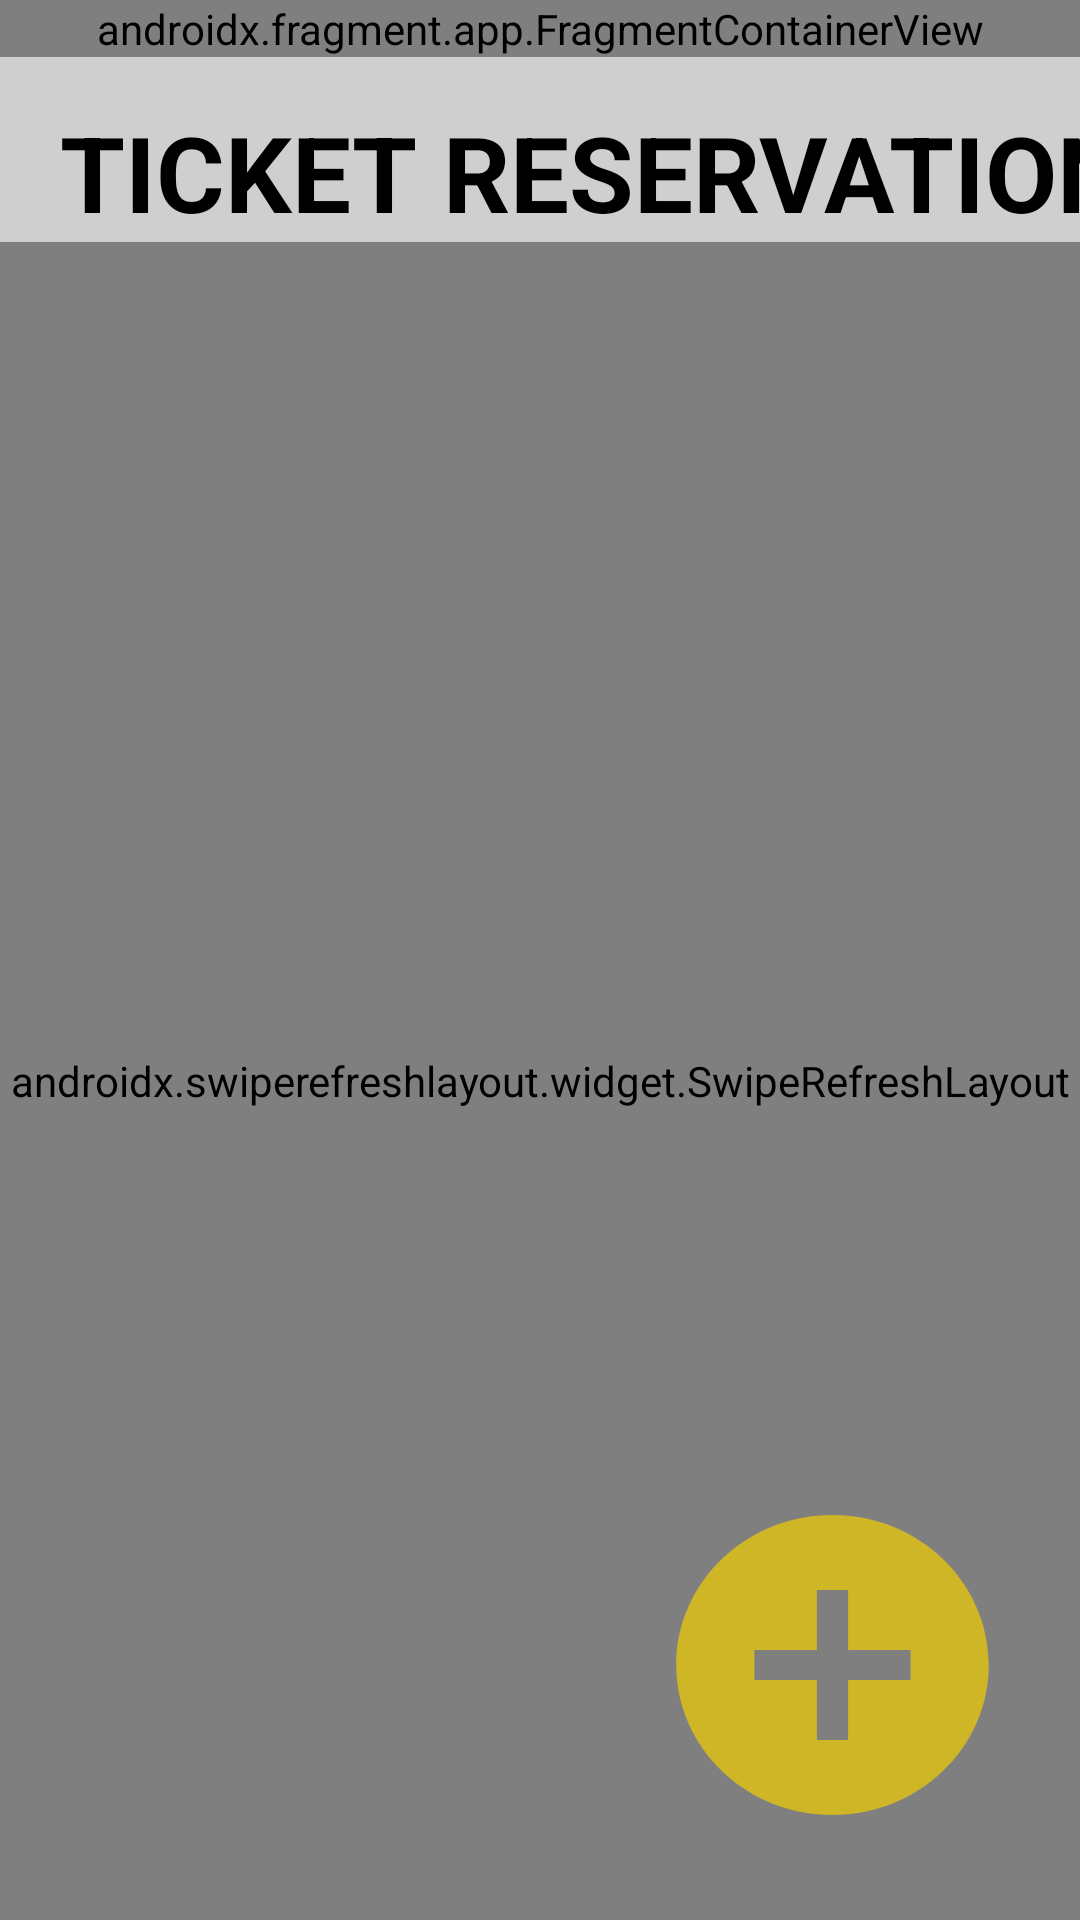

Icons on this 1080px x 1920px Android screen, each with its box as (x1, y1, x2, y2):
add: (676, 1515, 989, 1815)
